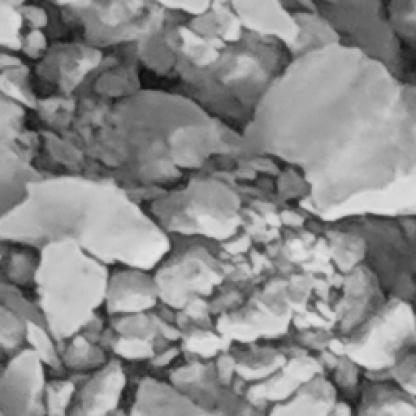cementitious_debris: (1, 0, 414, 399)
